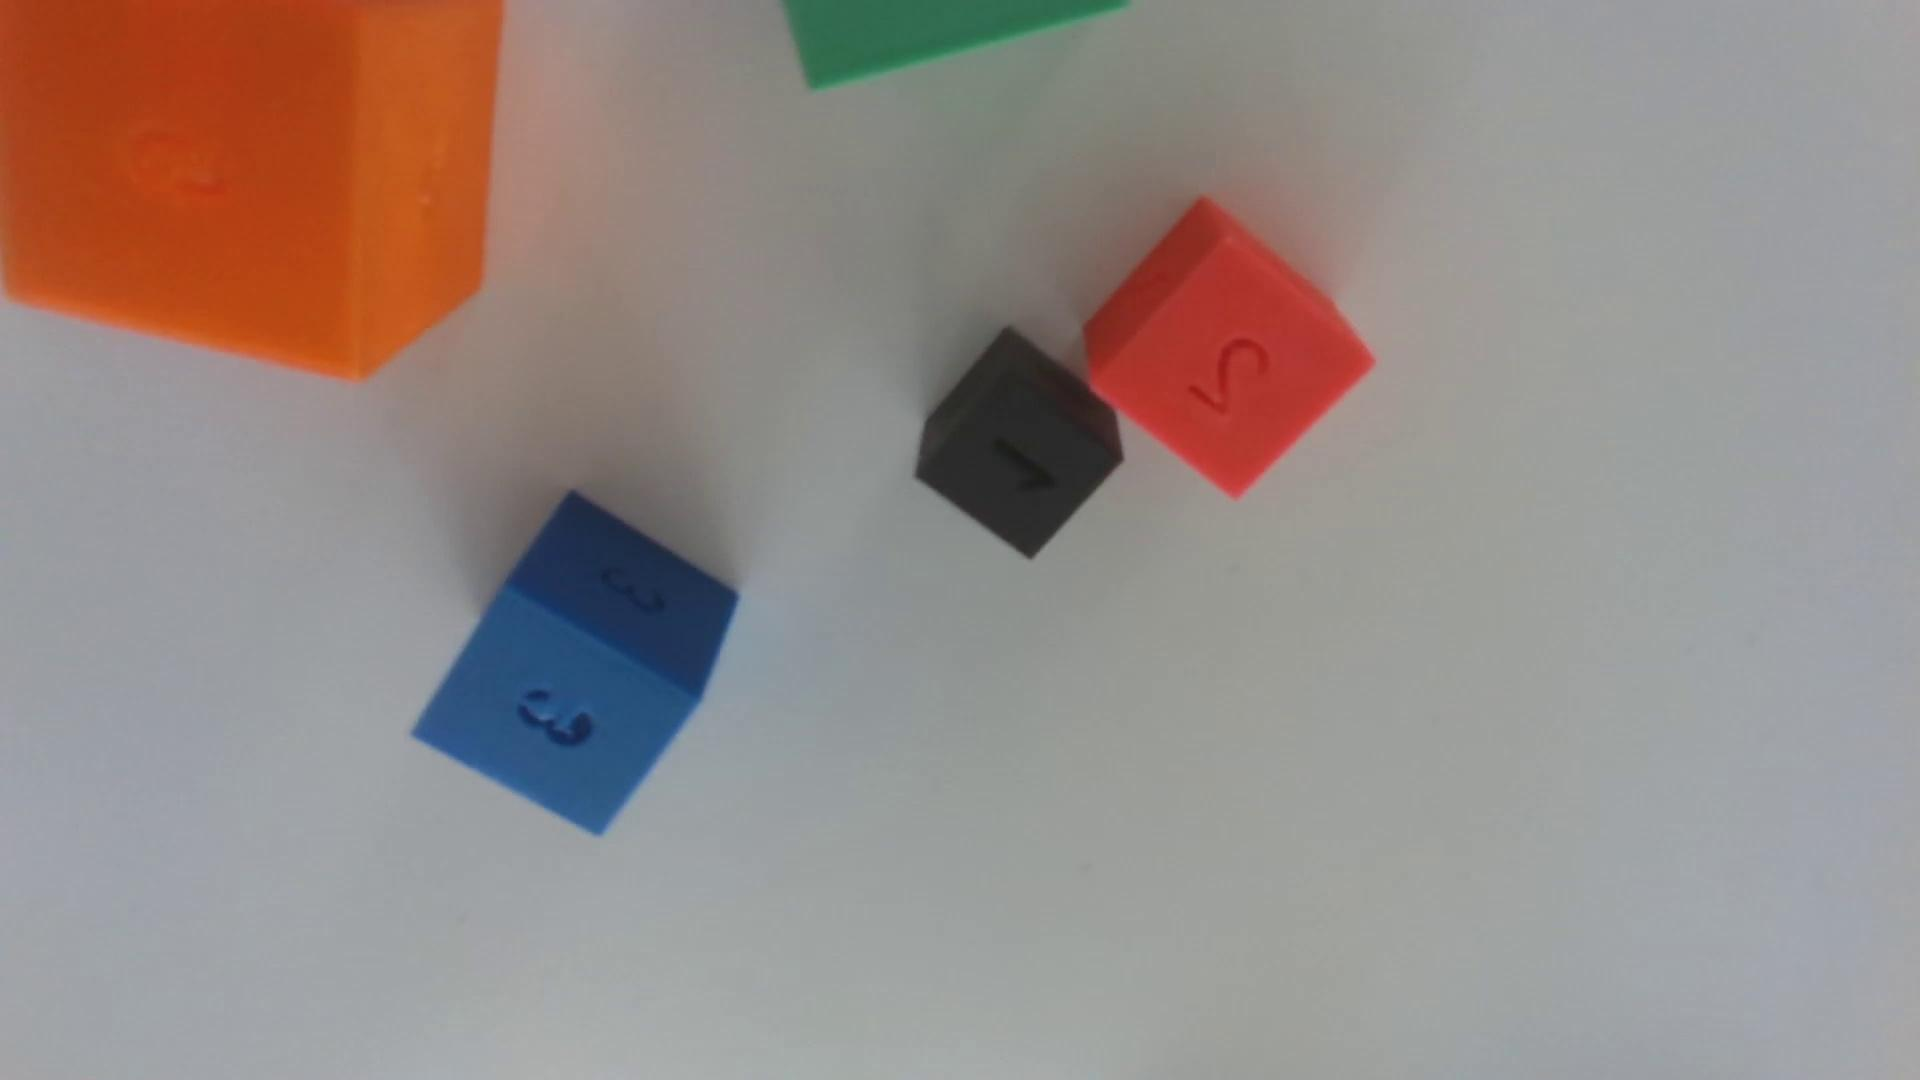black: (914, 328, 1124, 558)
blue: (413, 492, 738, 833)
green: (783, 0, 1125, 88)
orange: (0, 0, 504, 378)
red: (1083, 198, 1375, 497)
